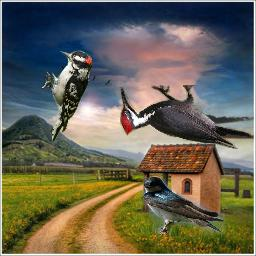Swallow: (143, 177, 225, 236)
Woodpecker: (120, 85, 251, 149), (42, 49, 92, 142)
